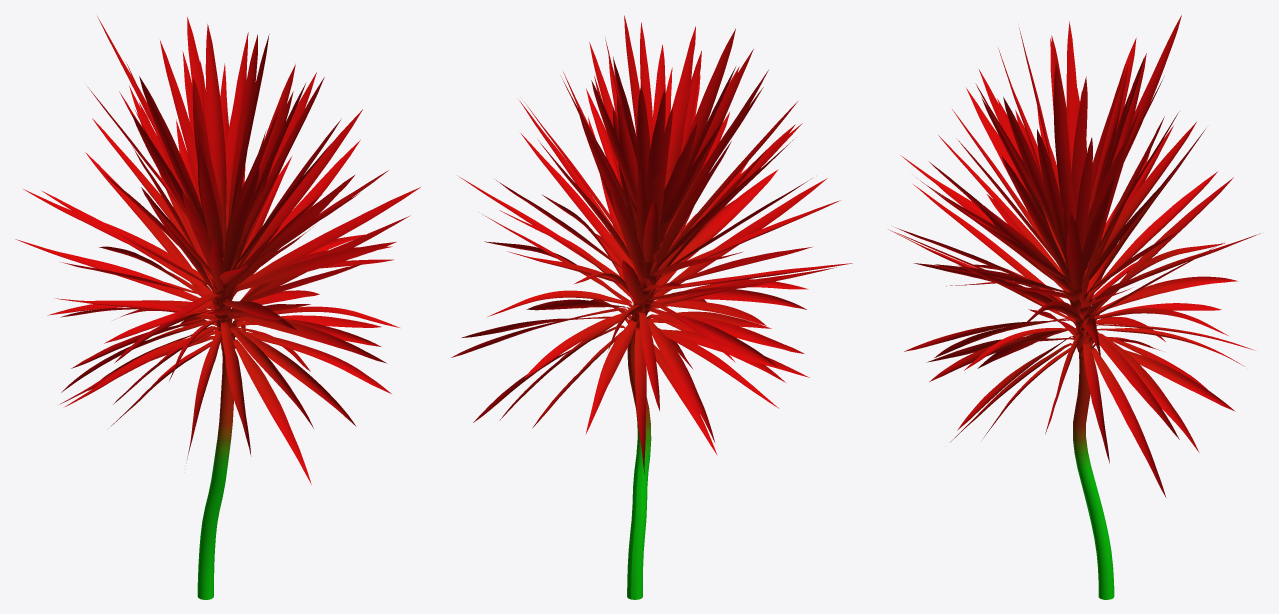
The model's file is Var6_LOD0.fbx.
3 views of the same model, side by side, from view 1: azimuth 30°, elevation 25°; view 2: azimuth 150°, elevation 25°; view 3: azimuth 270°, elevation 25° (orthographic). The views are drawn at different scales.
Parts seen in each view (by area): view 1: _qpzs_Var6_LOD0; view 2: _qpzs_Var6_LOD0; view 3: _qpzs_Var6_LOD0.
Part boxes in pixels (x1,y1,x2,y2): _qpzs_Var6_LOD0: (15, 16, 420, 599); _qpzs_Var6_LOD0: (451, 15, 852, 599); _qpzs_Var6_LOD0: (888, 15, 1260, 599).
Bounding box in the file's own units: 117 × 178 × 112.
